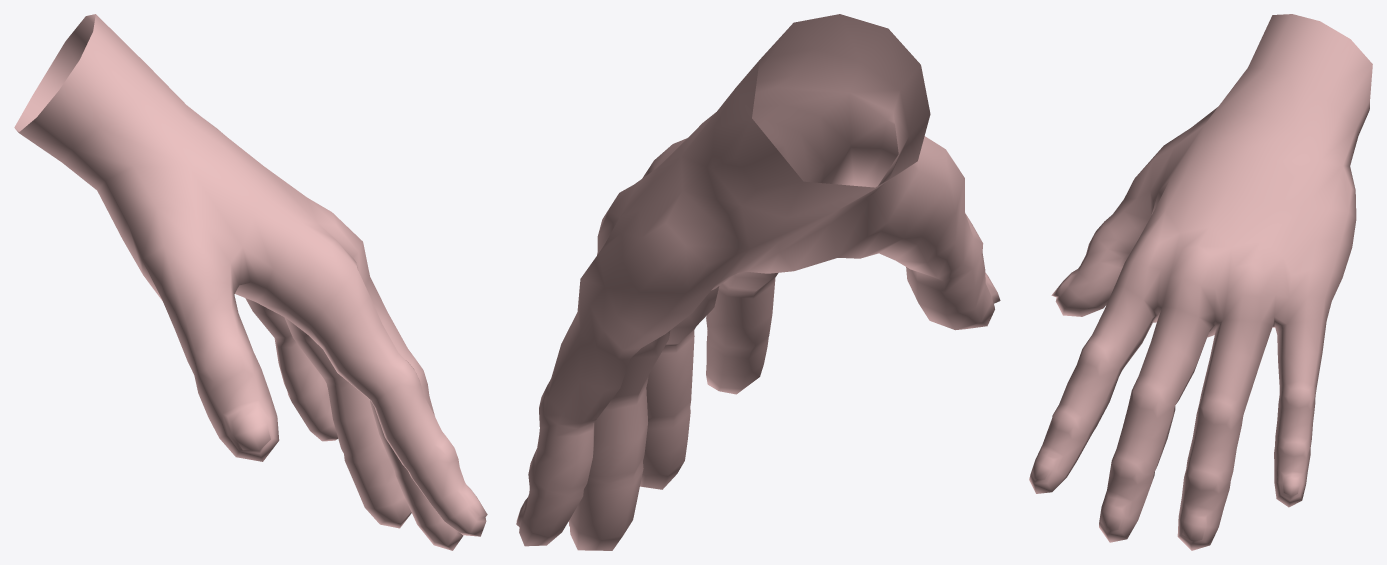
File: Base_Male_A_Hand01.fbx
3 views of the same model, side by side, from view 1: azimuth 30°, elevation 25°; view 2: azimuth 150°, elevation 25°; view 3: azimuth 270°, elevation 25° (orthographic). The views are drawn at different scales.
Visible parts, largest first — view 1: Base_Male_A_Hand01; view 2: Base_Male_A_Hand01; view 3: Base_Male_A_Hand01.
Part boxes in pixels (x1,y1,x2,y2): Base_Male_A_Hand01: (14, 14, 487, 550); Base_Male_A_Hand01: (516, 14, 1000, 550); Base_Male_A_Hand01: (1029, 14, 1372, 550).
Size of the model in its own units: 0.7721 by 1.14 by 0.8177.
